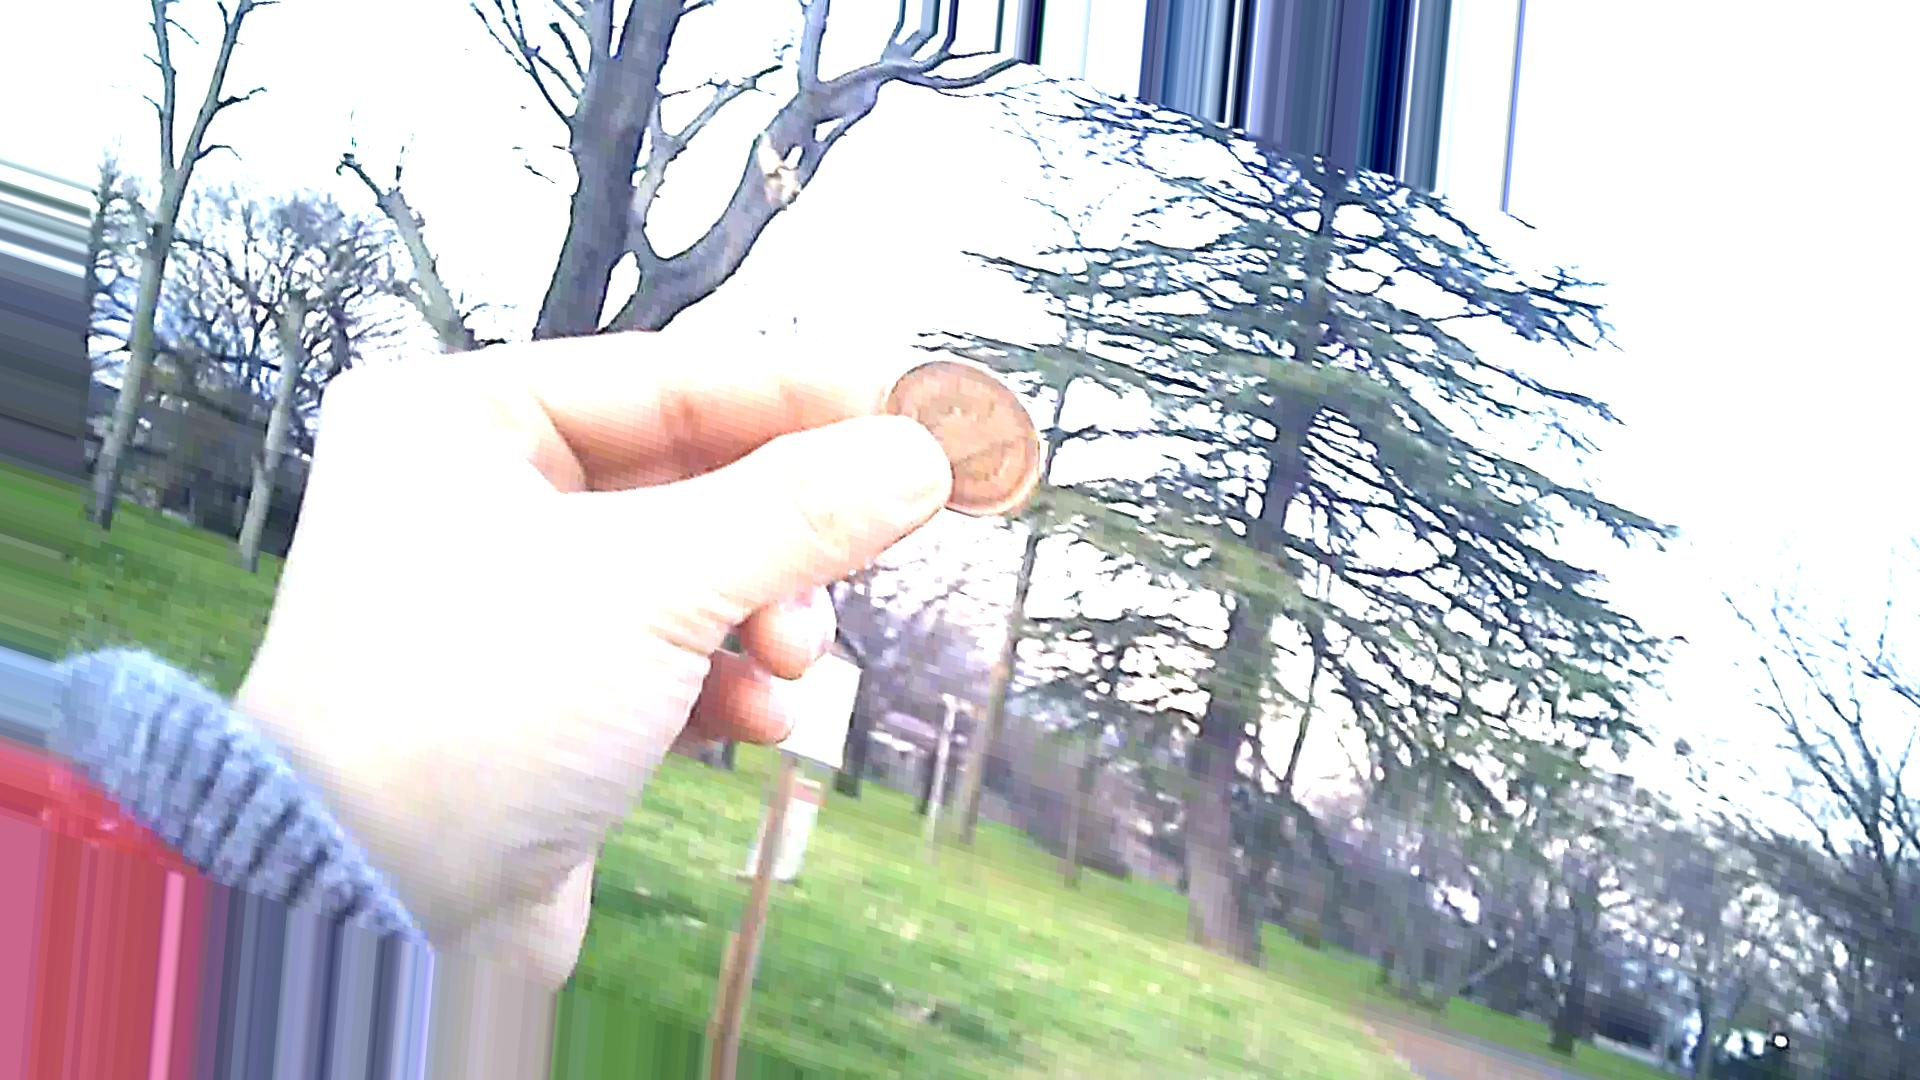10 Yen: (880, 348, 1050, 516)
